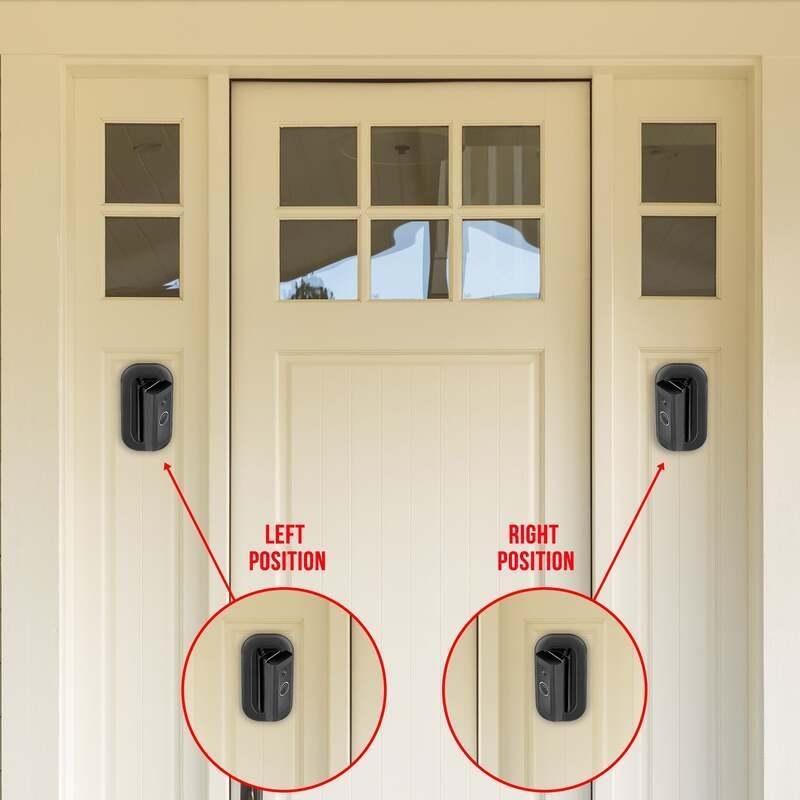doorbell: (137, 369, 181, 456), (530, 643, 566, 725), (260, 655, 297, 718), (650, 385, 683, 454)
